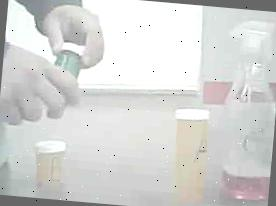Bottle A: (161, 98, 215, 206)
Bottle B: (30, 134, 73, 200)
Bottle C: (46, 36, 90, 112)
hazard: (214, 10, 276, 206)
